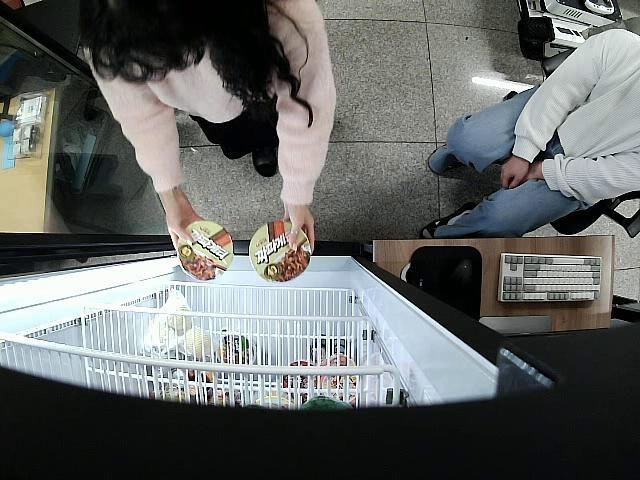03_chapagetti_L: (172, 218, 234, 280), (248, 222, 310, 282)
